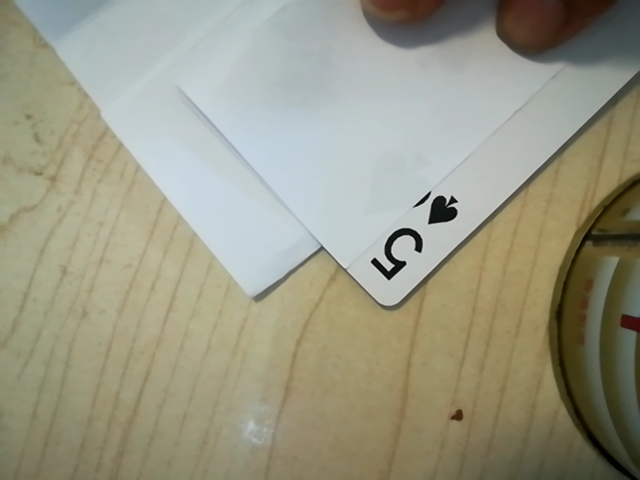ht 5: (358, 179, 473, 297)
